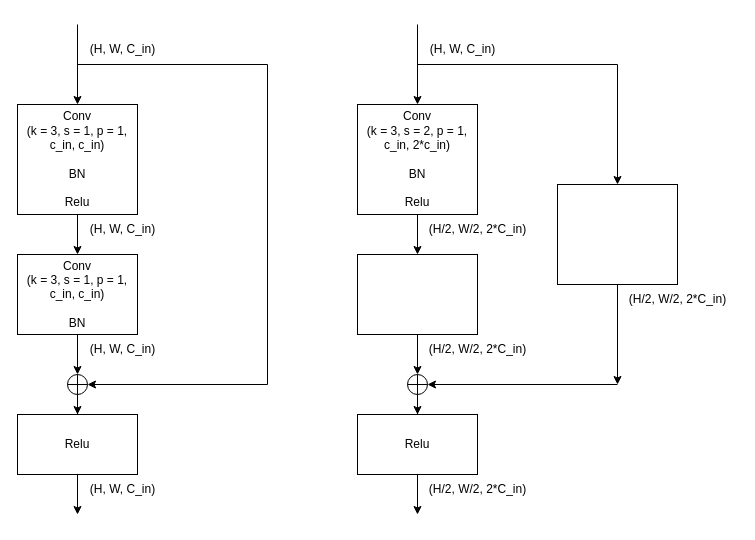
Image size: 755x540. Some labels were removed from this diagram. The centre of each missing label's shape, as x and y in pixels:
Conv (k = 1, s = 2, p = 0, c_in, 2*c_in) BN: (617,234)
Conv (k = 3, s = 1, p = 1, 2*c_in, 2*c_in) BN: (417,294)
